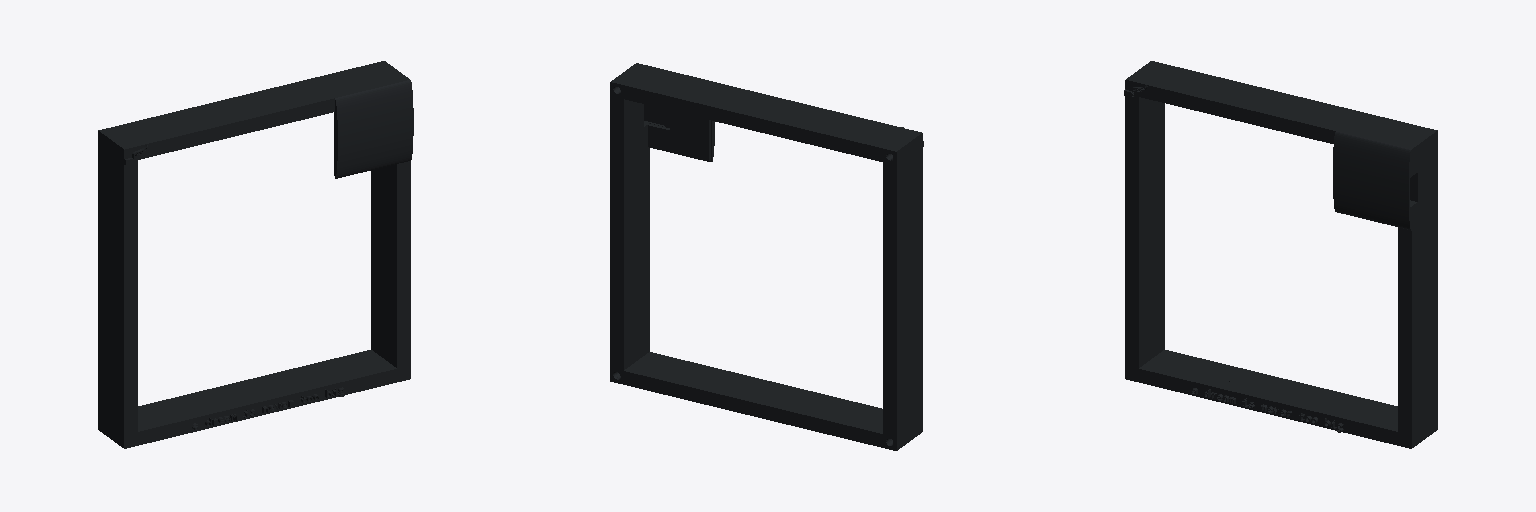
Rendered from tinker.obj.
3 renders of one model, left to right at view 1: azimuth 30°, elevation 25°; view 2: azimuth 150°, elevation 25°; view 3: azimuth 330°, elevation 25°, orthographic.
Parts seen in each view (by area): view 1: obj_0; view 2: obj_0; view 3: obj_0.
Boxes of the visible parts, <box> form: obj_0: <box>98,61,413,448</box>; obj_0: <box>610,63,923,450</box>; obj_0: <box>1124,61,1437,448</box>.
Bounding box in the file's own units: 108 × 108 × 19.